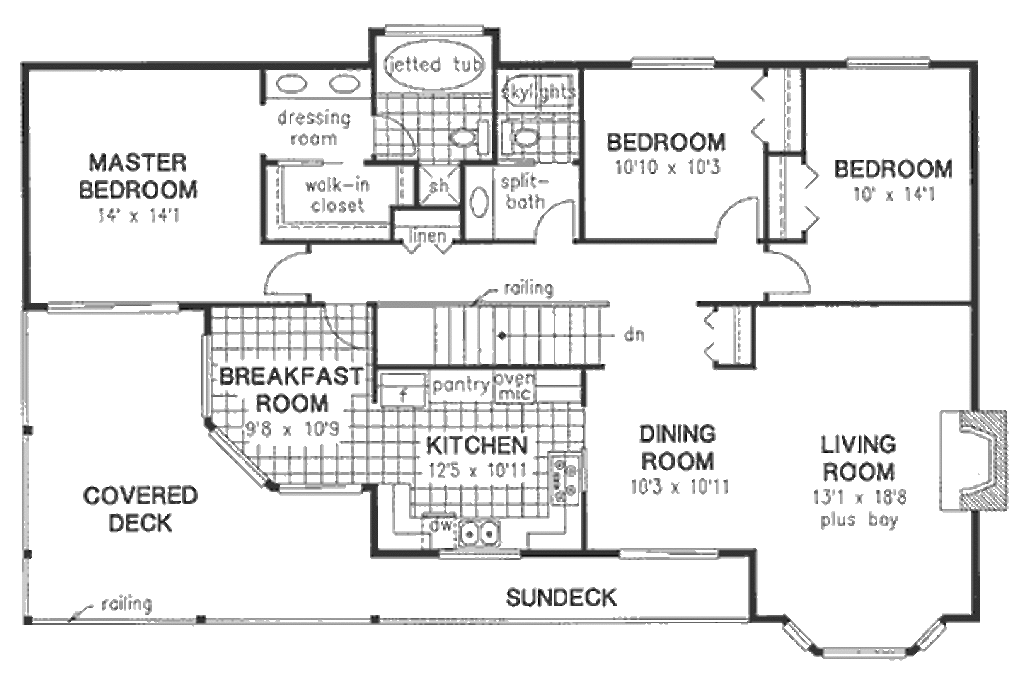door: (316, 296, 372, 359), (529, 184, 579, 251), (258, 237, 313, 297), (368, 109, 428, 158), (759, 245, 815, 294), (709, 188, 757, 243)
large_sink: (448, 118, 497, 155), (497, 116, 544, 154)
small_sink: (275, 66, 381, 102), (461, 160, 495, 237)
stairs: (417, 295, 611, 368)
twin_sink: (447, 514, 516, 549)
window: (603, 533, 725, 565), (845, 43, 934, 73), (616, 52, 718, 77), (822, 640, 916, 666), (907, 606, 946, 655), (782, 615, 818, 661), (194, 331, 211, 420)
